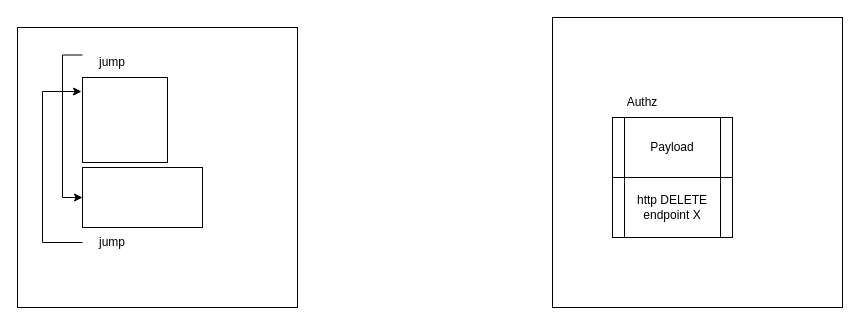
Image size: 860x325. Some labels were removed from this diagram. The centre of each missing label's shape, as x and y in pixels:
"binary code exe" belongs at (x=125, y=119).
"virus" belongs at (x=142, y=197).
